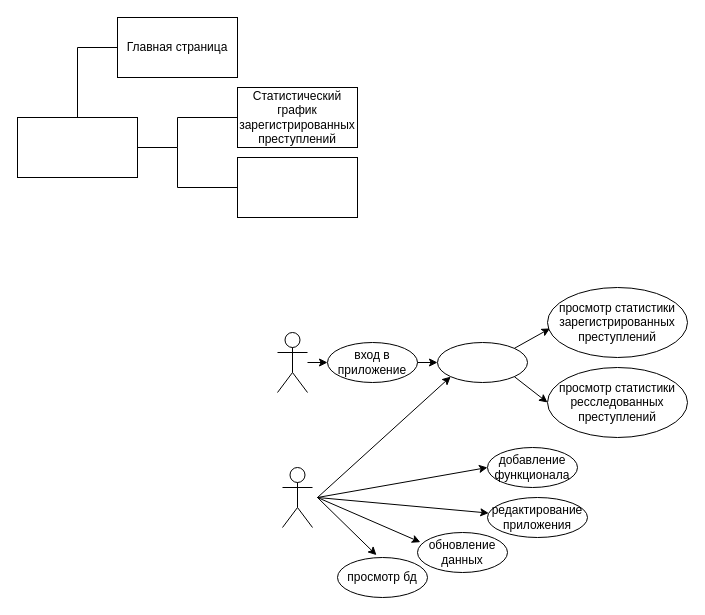
Image size: 705x615. Some labels were removed from this diagram. The shapes that lost their labels are listed below. From the top down, each one's box as (x1, y1, x2, y2) in pixels, then its label:
(16, 116, 138, 178): Список субъектов РФ
(236, 156, 358, 218): Статистический график расследованных преступлений
(276, 332, 308, 392): Пользователь
(436, 342, 528, 382): выбор региона
(282, 466, 312, 528): Администратор
